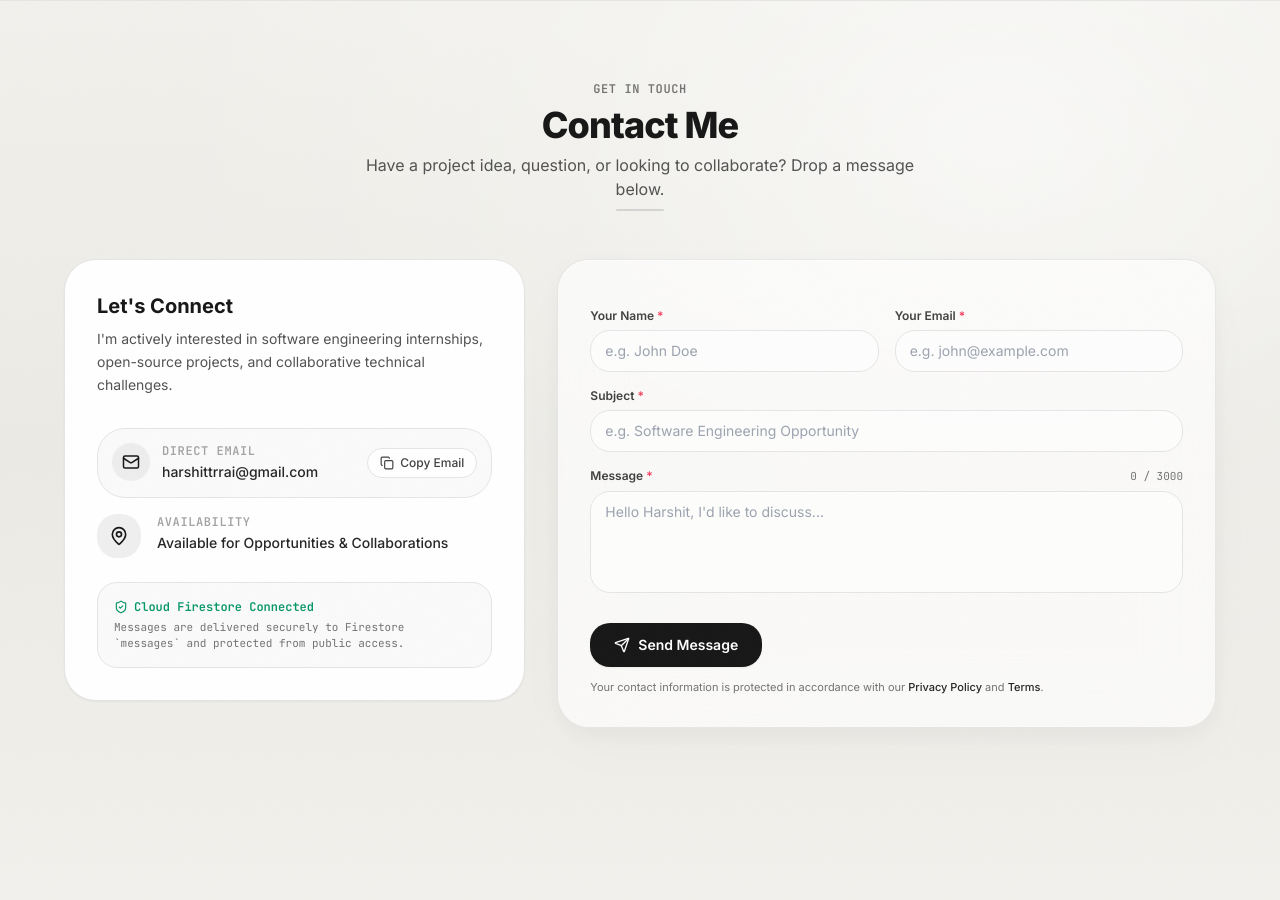
Scenario: Contact Component & Copy Email Action › handles clipboard failure gracefully with fallback notice
Click the button "Copy Email". click: (422, 463)
box: top-left (367, 448), bottom-right (477, 478)
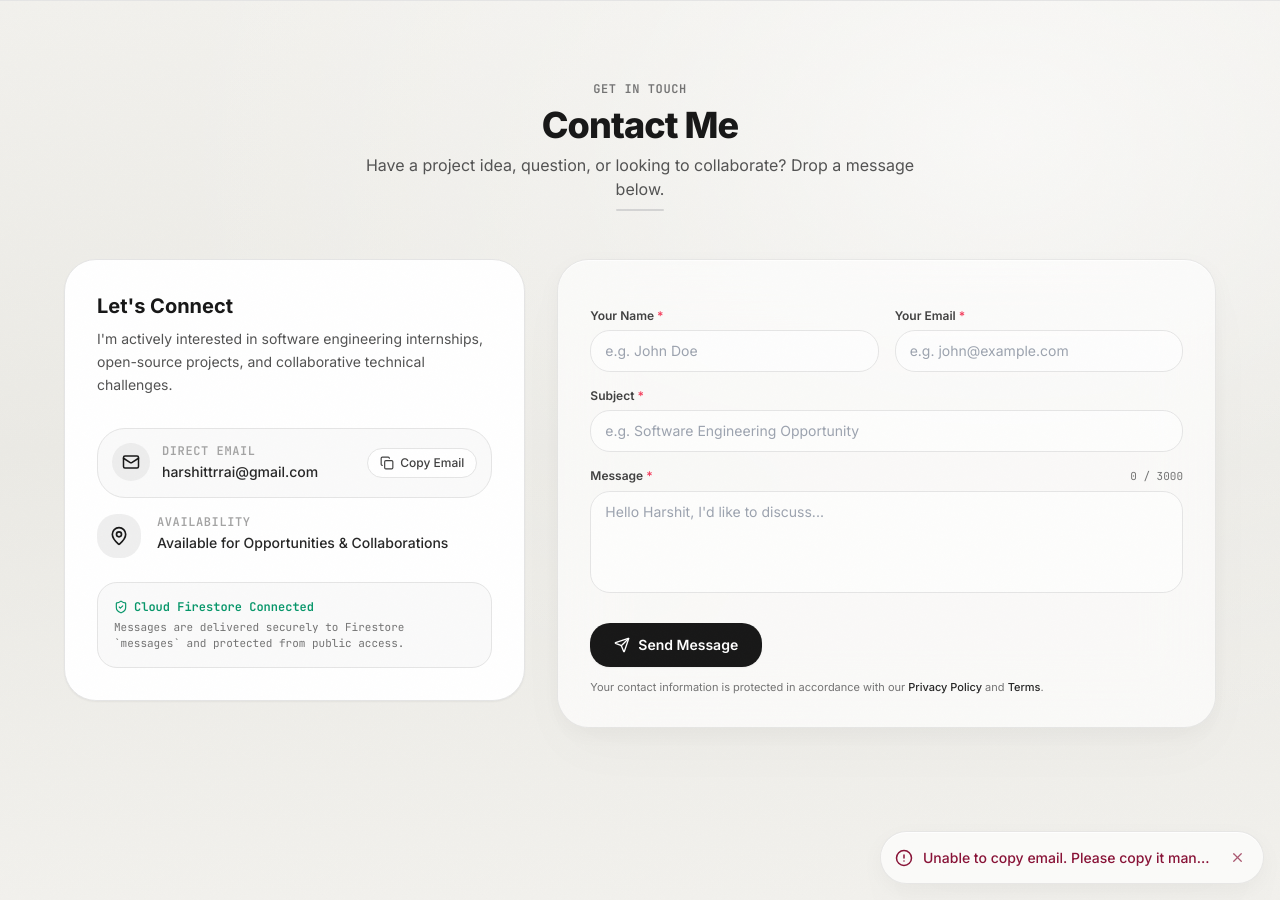
expect the text "Unable to copy email. Please copy it manually." is shown: met, box top-left (923, 848), bottom-right (1214, 868)
